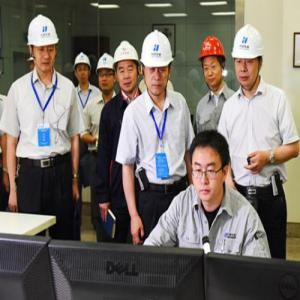none: (187, 130, 231, 207)
red: (198, 33, 228, 93)
white: (231, 24, 266, 94), (140, 29, 173, 99), (27, 14, 61, 77), (114, 42, 142, 96), (96, 53, 118, 98), (73, 52, 92, 89)
